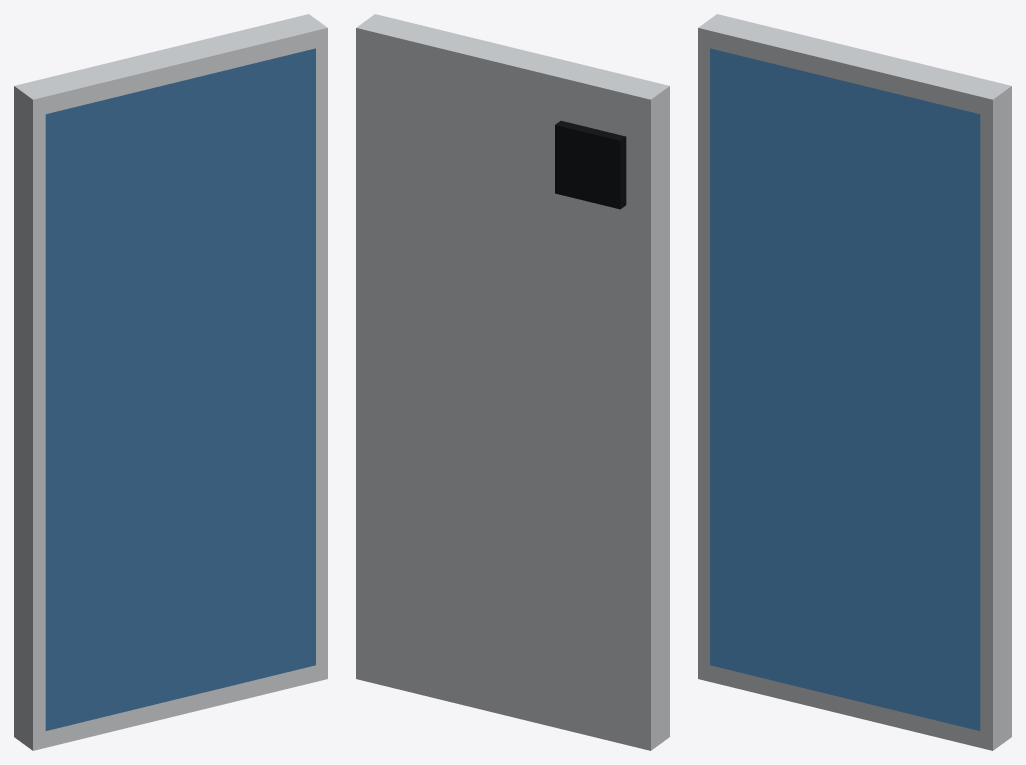
Rendered from prop_phone.glb.
3 views of the same model, side by side, from view 1: azimuth 30°, elevation 25°; view 2: azimuth 150°, elevation 25°; view 3: azimuth 330°, elevation 25° (orthographic).
Parts seen in each view (by area): view 1: prop_phone; view 2: prop_phone; view 3: prop_phone.
Boxes of the visible parts, x1,y1,x2,y2 form: prop_phone: (14,14,327,750); prop_phone: (356,14,669,750); prop_phone: (698,14,1011,750).
Bounding box in the file's own units: 0.072 × 0.152 × 0.0107.
